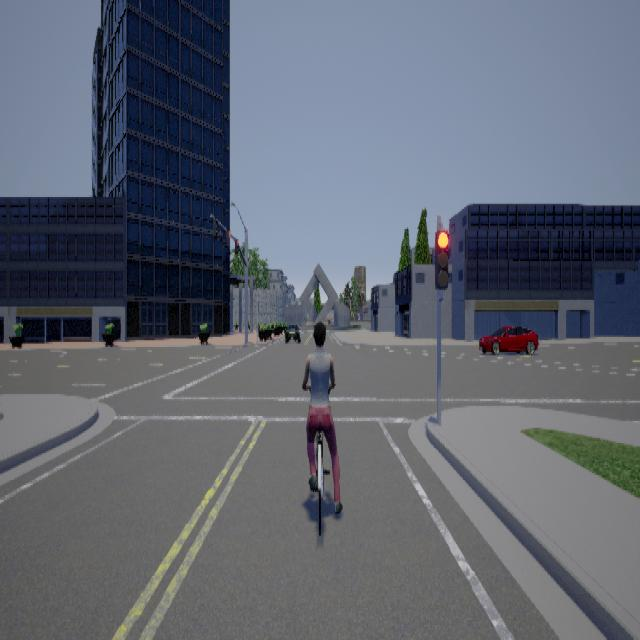bike: (298, 320, 343, 534)
red_light: (434, 219, 448, 300), (225, 229, 230, 246), (234, 238, 238, 252)
traffic_light: (213, 217, 218, 236)
vehicle: (478, 325, 538, 354), (281, 318, 303, 344)
